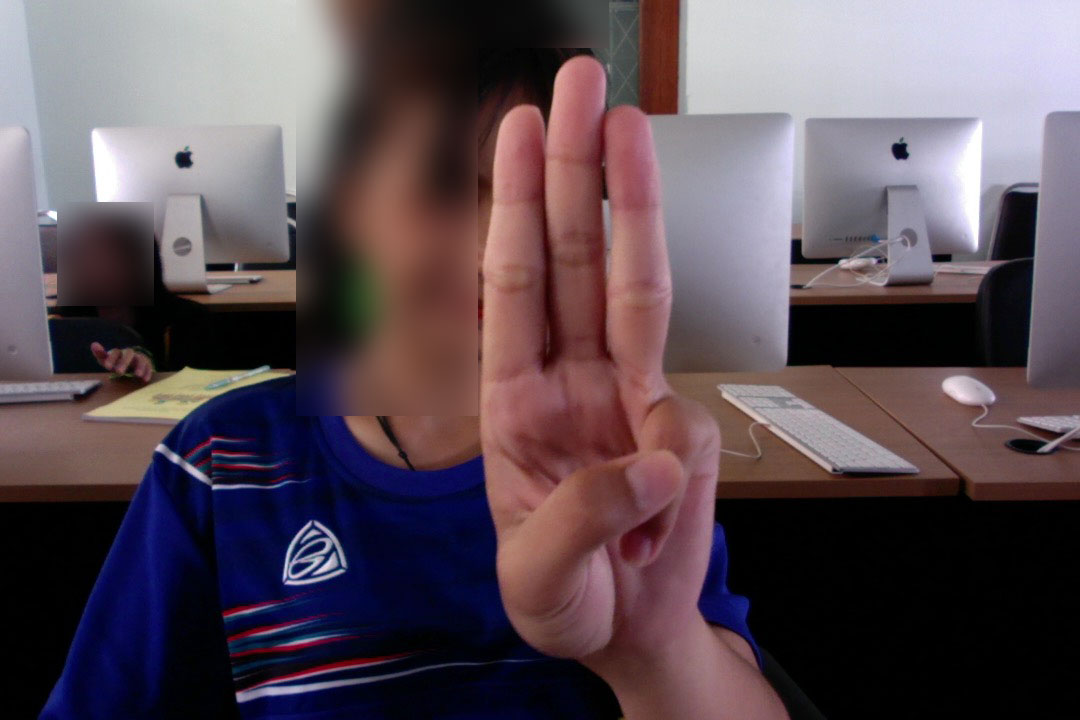wor: (466, 48, 747, 677)
